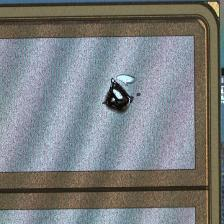PARTICLE: (93, 64, 153, 124)
